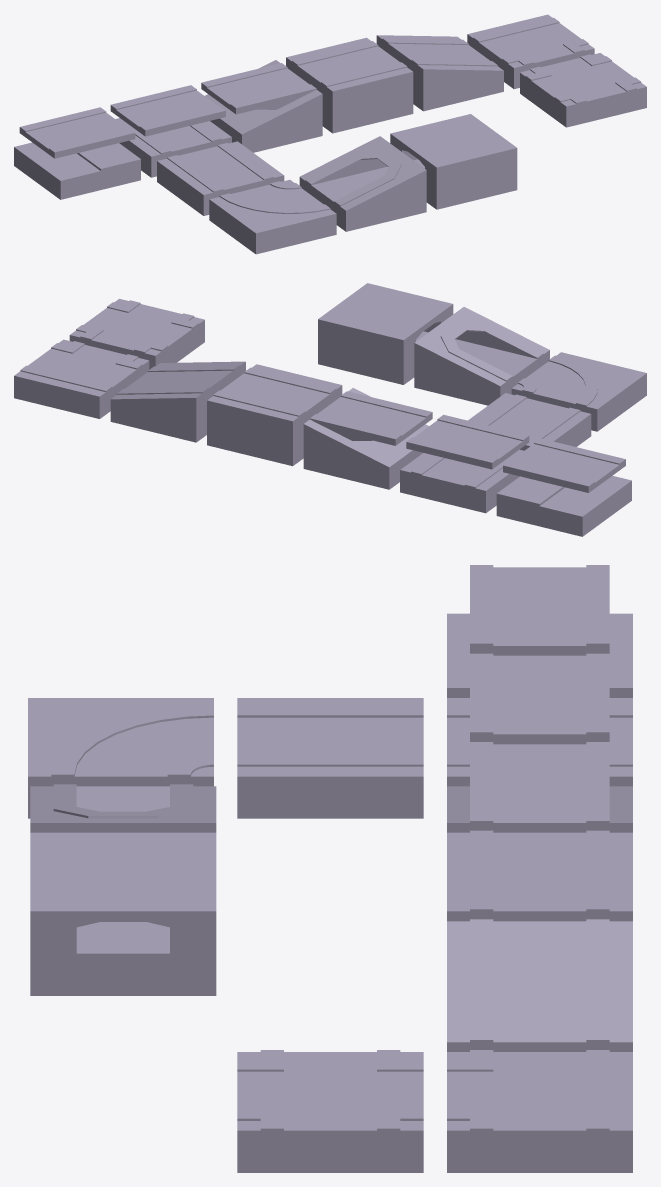
The model's file is roads.obj.
The picture shows the model from 3 angles, top to bottom: view 1: azimuth 30°, elevation 25°; view 2: azimuth 150°, elevation 25°; view 3: azimuth 270°, elevation 25°; orthographic projection. The views are drawn at different scales.
Visible parts, largest first — view 1: road-bridge-water_Cube.024, road-straight-high_Cube.035, road-tunnel-segment_Cube.021, road-tunnel-entry_Cube.169, road-bridge-hill_Cube.018, road-corner_Cube.127, road-crossroad-low_Cube.010, road-bridge-crossroad_Cube.171, road-hill_Cube.011, road-straight.low_Cube.131, road-tjunction-low_Cube.007; view 2: road-bridge-water_Cube.024, road-straight-high_Cube.035, road-tunnel-segment_Cube.021, road-bridge-hill_Cube.018, road-tunnel-entry_Cube.169, road-bridge-crossroad_Cube.171, road-hill_Cube.011, road-tjunction-low_Cube.007, road-corner_Cube.127, road-crossroad-low_Cube.010, road-straight.low_Cube.131; view 3: road-tunnel-segment_Cube.021, road-hill_Cube.011, road-crossroad-low_Cube.010, road-straight.low_Cube.131, road-tjunction-low_Cube.007, road-straight-high_Cube.035, road-bridge-crossroad_Cube.171, road-corner_Cube.127, road-bridge-water_Cube.024, road-bridge-hill_Cube.018, road-tunnel-entry_Cube.169.
Part boxes in pixels (x1,y1,x2,y2): road-bridge-water_Cube.024: (14, 107, 140, 199); road-straight-high_Cube.035: (286, 37, 413, 133); road-tunnel-segment_Cube.021: (390, 114, 517, 209); road-tunnel-entry_Cube.169: (299, 136, 426, 231); road-bridge-hill_Cube.018: (201, 60, 322, 152); road-corner_Cube.127: (209, 179, 336, 254); road-crossroad-low_Cube.010: (520, 53, 646, 127); road-bridge-crossroad_Cube.171: (110, 85, 231, 177); road-hill_Cube.011: (376, 35, 503, 111); road-straight.low_Cube.131: (157, 141, 284, 215); road-tjunction-low_Cube.007: (467, 14, 594, 89); road-bridge-water_Cube.024: (496, 438, 631, 536); road-straight-high_Cube.035: (207, 364, 342, 466); road-tunnel-segment_Cube.021: (318, 283, 453, 384); road-bridge-hill_Cube.018: (303, 388, 432, 489); road-tunnel-entry_Cube.169: (414, 307, 549, 405); road-bridge-crossroad_Cube.171: (400, 414, 529, 513); road-hill_Cube.011: (110, 361, 245, 442); road-tjunction-low_Cube.007: (14, 339, 149, 418); road-corner_Cube.127: (511, 352, 646, 431); road-crossroad-low_Cube.010: (69, 298, 204, 369); road-straight.low_Cube.131: (468, 393, 591, 450); road-tunnel-segment_Cube.021: (30, 832, 216, 995); road-hill_Cube.011: (447, 919, 632, 1051); road-crossroad-low_Cube.010: (237, 1050, 423, 1172); road-straight.low_Cube.131: (237, 698, 423, 818); road-tjunction-low_Cube.007: (447, 1050, 632, 1172); road-straight-high_Cube.035: (447, 830, 632, 921); road-bridge-crossroad_Cube.171: (447, 653, 632, 786); road-corner_Cube.127: (28, 698, 213, 818); road-bridge-water_Cube.024: (447, 565, 632, 697); road-bridge-hill_Cube.018: (447, 742, 632, 832); road-tunnel-entry_Cube.169: (30, 784, 216, 832).
Bounding box in the file's own units: 53 × 4.1 × 26.
